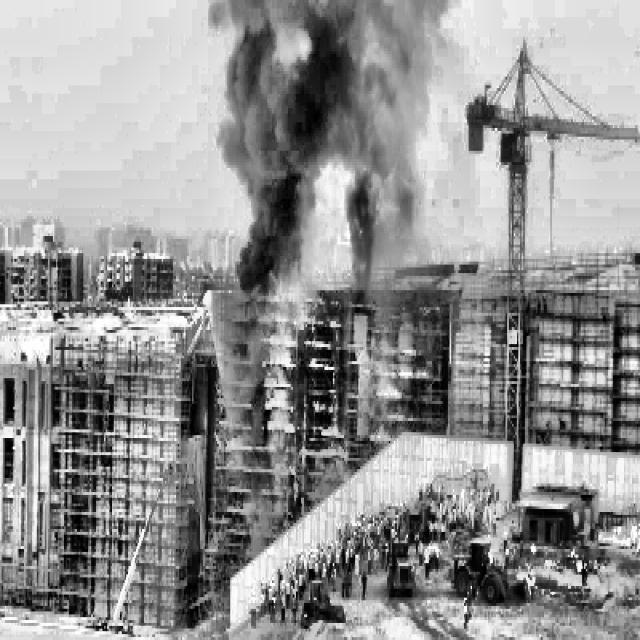fire: (204, 175, 444, 565)
